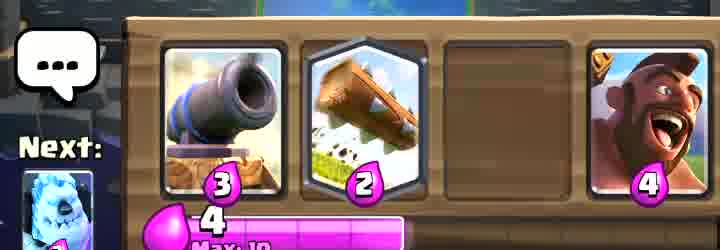cannon: (172, 50, 284, 193)
hog-rider: (587, 52, 703, 201)
ice-golem: (25, 171, 93, 249)
log: (311, 43, 424, 191)
